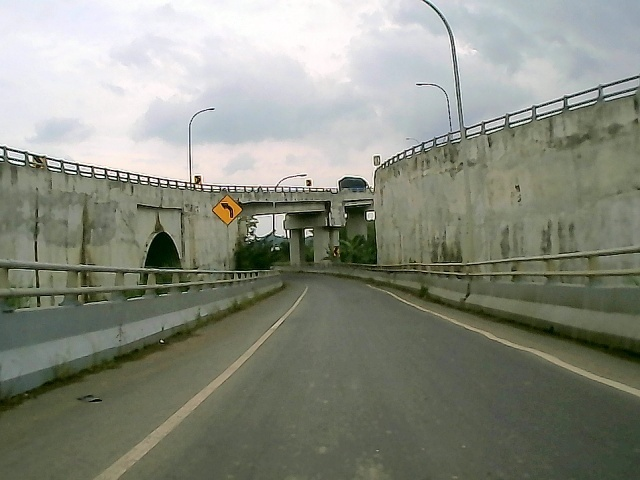Tikungan ke kiri: (209, 193, 244, 226)
